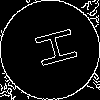H: (25, 25, 79, 72)
